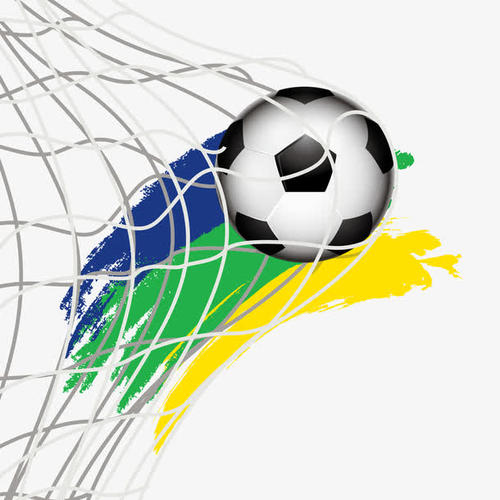football: (224, 79, 394, 265)
